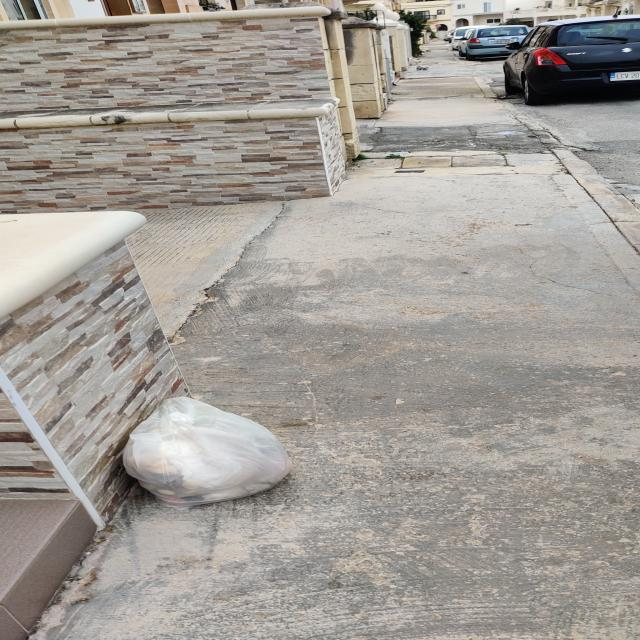Recyclable Material -Grey Bags-: (116, 398, 298, 511)
